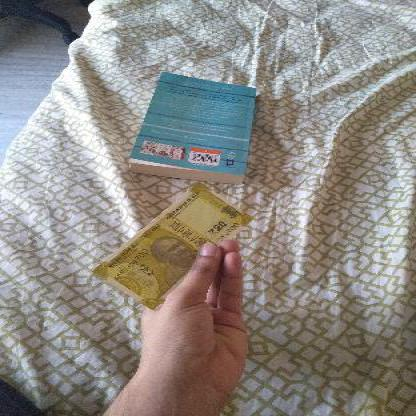New20Front: (95, 181, 248, 296)
